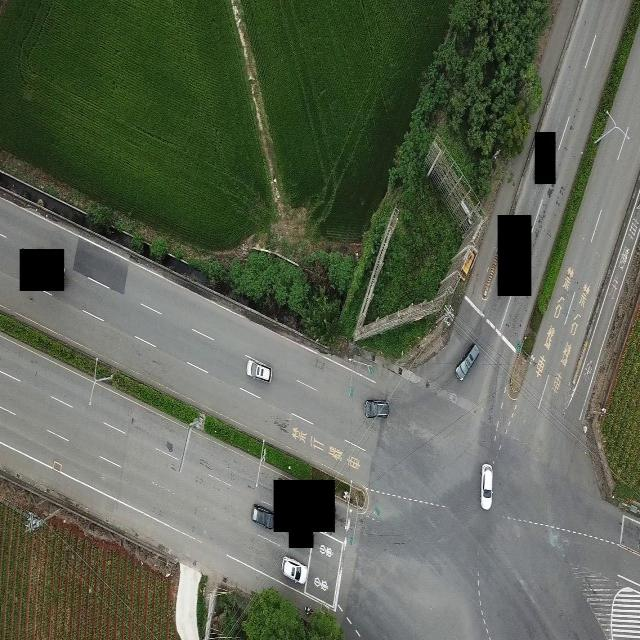car: (455, 342, 479, 381), (280, 555, 308, 586), (245, 358, 272, 383), (251, 502, 274, 529), (480, 463, 493, 510), (364, 398, 390, 418)
